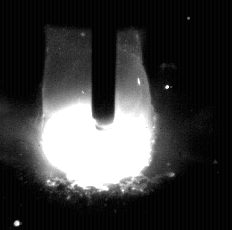arame: (92, 0, 117, 131)
poca: (42, 0, 153, 230)
